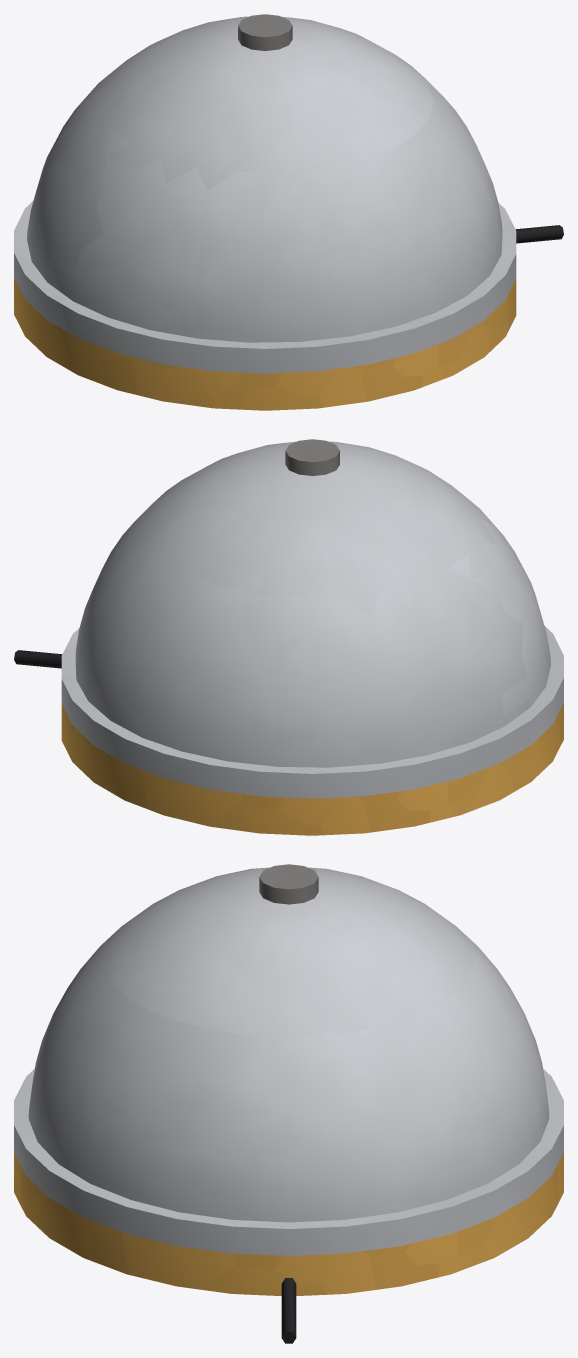
File: sci02_seismometer_deployed.glb
3 renders of one model, top to bottom at view 1: azimuth 30°, elevation 25°; view 2: azimuth 150°, elevation 25°; view 3: azimuth 270°, elevation 25°, orthographic. The views are drawn at different scales.
Visible parts, largest first — view 1: dome, dome_skirt, grapple_knob, tether; view 2: dome, dome_skirt, grapple_knob, tether; view 3: dome, dome_skirt, grapple_knob, tether.
Boxes of the visible parts, bbox=[...] form: dome: bbox=[14, 16, 516, 373]; dome_skirt: bbox=[14, 278, 516, 410]; grapple_knob: bbox=[238, 14, 292, 50]; tether: bbox=[515, 225, 563, 243]; dome: bbox=[61, 441, 563, 798]; dome_skirt: bbox=[61, 703, 563, 835]; grapple_knob: bbox=[285, 439, 339, 475]; tether: bbox=[14, 650, 62, 668]; dome: bbox=[14, 867, 563, 1255]; dome_skirt: bbox=[14, 1152, 563, 1295]; grapple_knob: bbox=[259, 864, 318, 904]; tether: bbox=[281, 1278, 296, 1343].
Bounding box in the file's own units: 0.8713 × 0.4796 × 0.7395.
4 materials, 3 textured.
